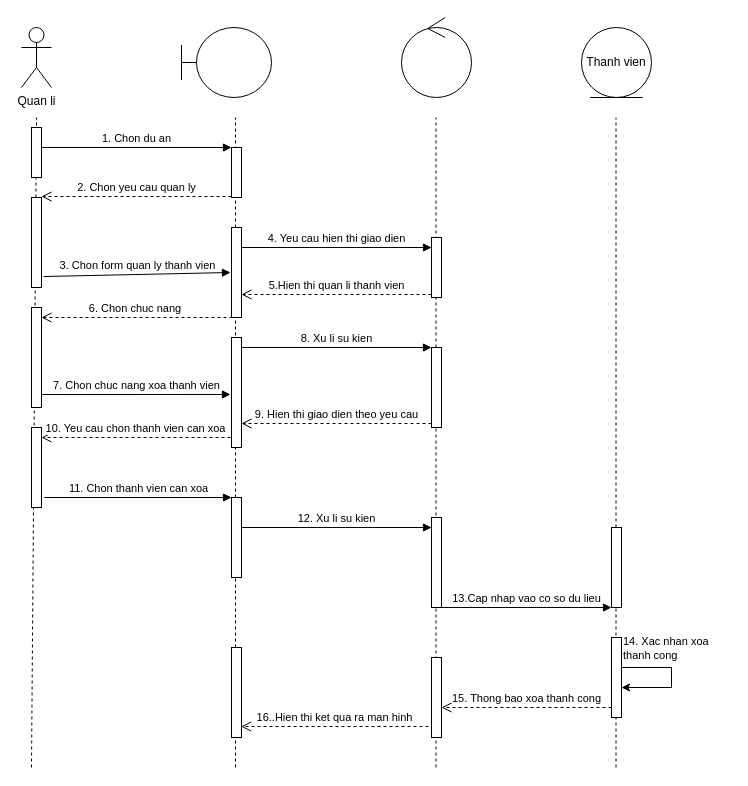
Image size: 748x786. Some labels were removed from this diagram. Each missing label, with the centre of its shape:
"Control Quan ly thanh vien" goes at (436,57).
"Form quan li" goes at (226,62).
